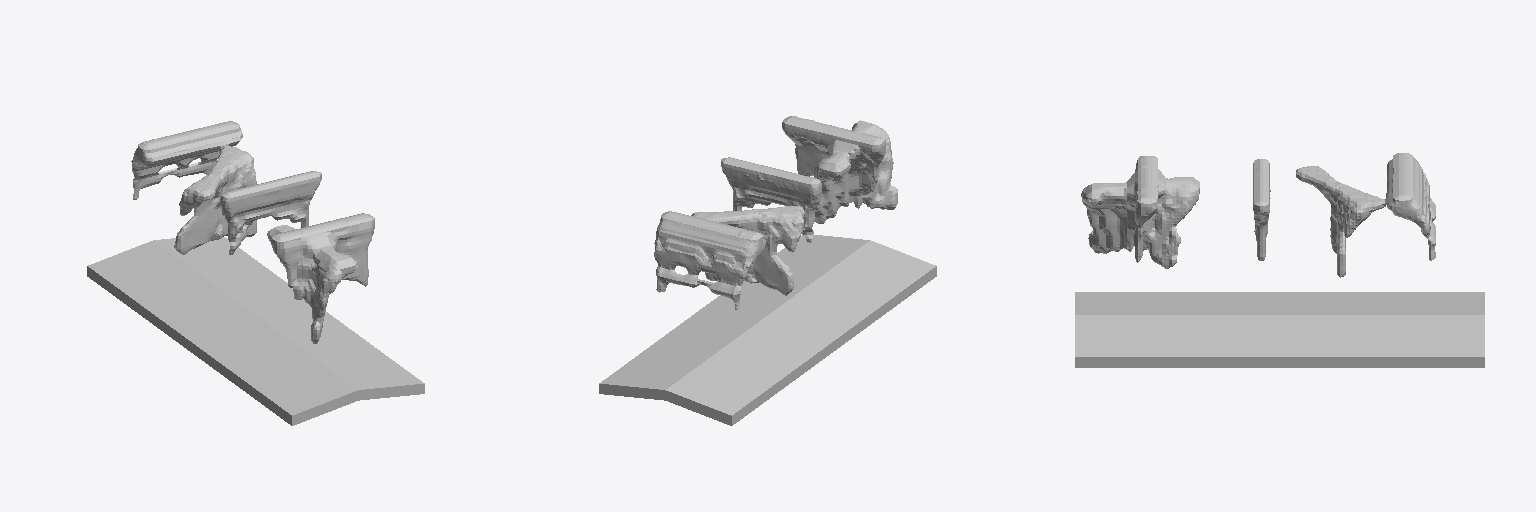
The model's file is Watersim_000013.obj.
3 renders of one model, left to right at view 1: azimuth 30°, elevation 25°; view 2: azimuth 150°, elevation 25°; view 3: azimuth 270°, elevation 25°, orthographic.
Visible parts, largest first — view 1: Straße_Cube.007, Domain_Cube.006; view 2: Straße_Cube.007, Domain_Cube.006; view 3: Straße_Cube.007, Domain_Cube.006.
Part boxes in pixels (bbox=[...]): Straße_Cube.007: bbox=[87, 237, 424, 425]; Domain_Cube.006: bbox=[131, 121, 374, 343]; Straße_Cube.007: bbox=[599, 235, 936, 425]; Domain_Cube.006: bbox=[654, 116, 897, 309]; Straße_Cube.007: bbox=[1075, 292, 1484, 367]; Domain_Cube.006: bbox=[1081, 153, 1435, 277].
Bounding box in the file's own units: 2.26 × 2.59 × 6.06.